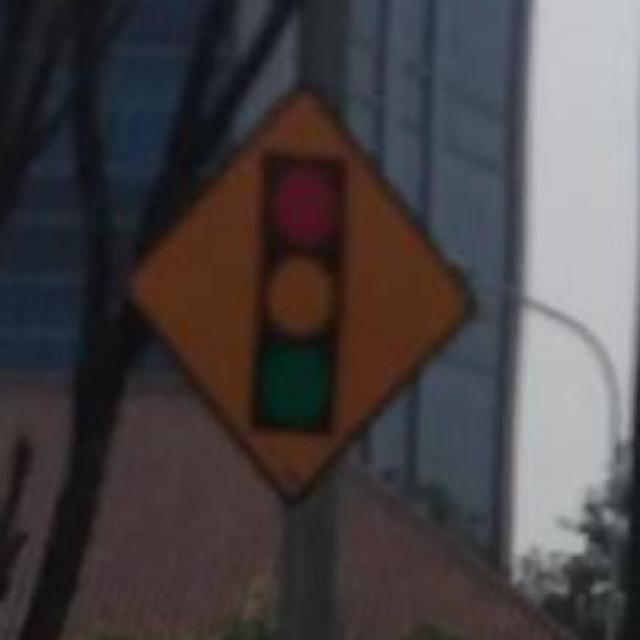traffic sign: (148, 96, 464, 491)
